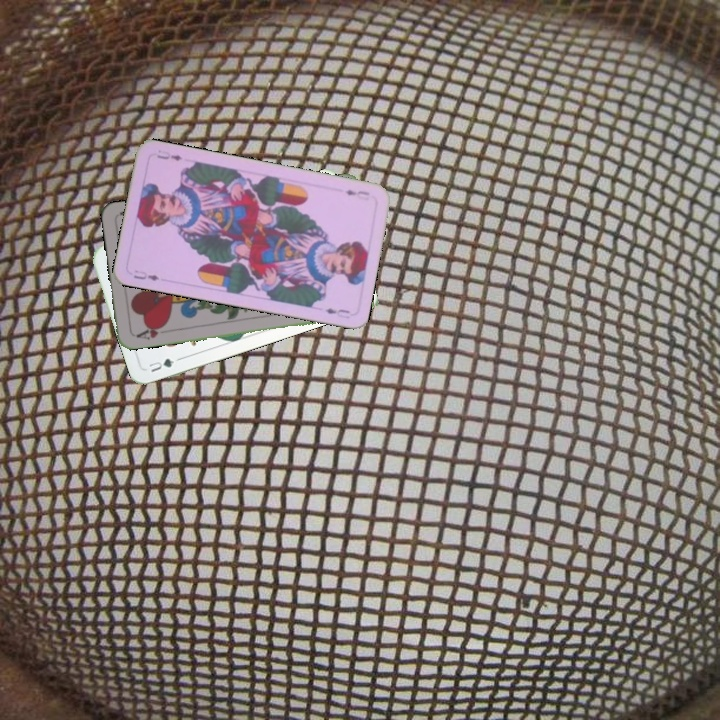EU: (130, 266, 162, 284), (341, 185, 372, 203)
GU: (145, 354, 183, 375)
HA: (132, 321, 171, 342)
